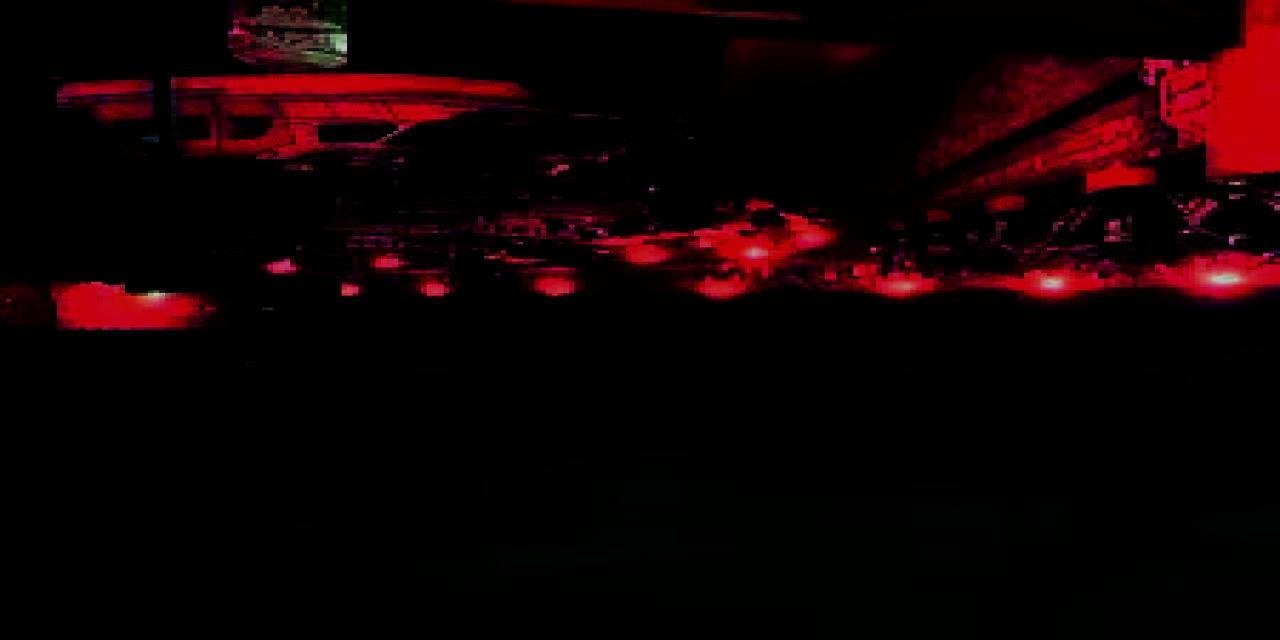Kules: (1, 278, 303, 336)
